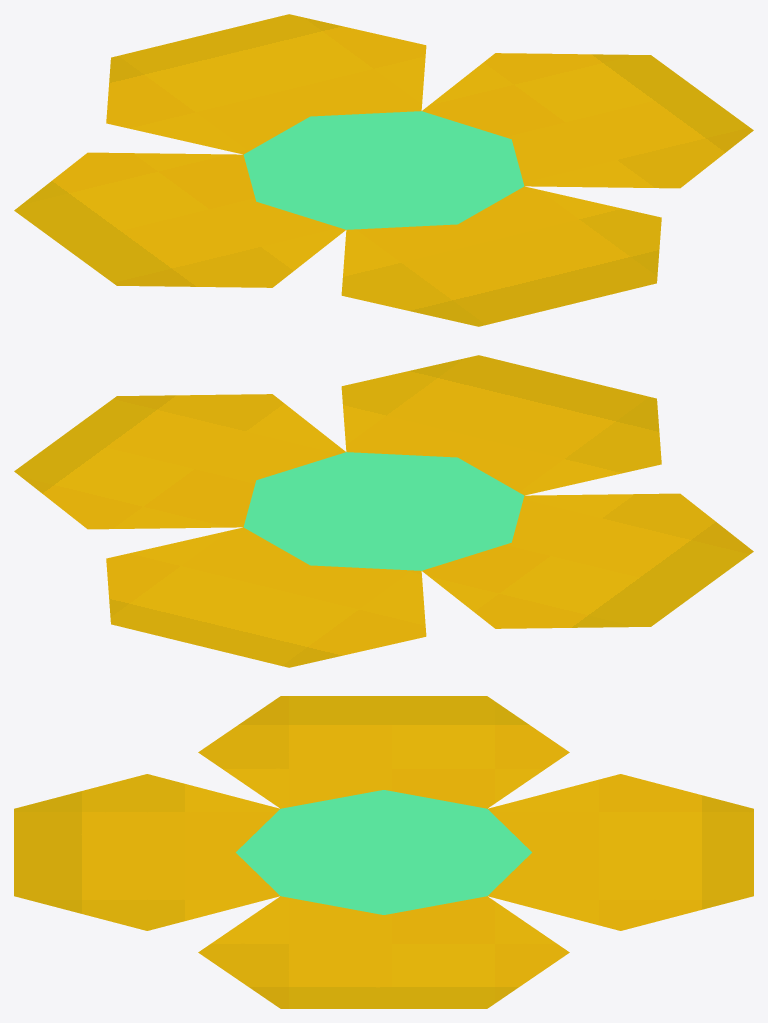
Rendered from GroundFlower.fbx.
3 views of the same model, one above another, from view 1: azimuth 30°, elevation 25°; view 2: azimuth 150°, elevation 25°; view 3: azimuth 270°, elevation 25° (orthographic).
Parts seen in each view (by area): view 1: GroundFlower; view 2: GroundFlower; view 3: GroundFlower.
Part boxes in pixels (<box>): GroundFlower: <box>14,14,753,326</box>; GroundFlower: <box>14,355,753,667</box>; GroundFlower: <box>14,696,753,1008</box>.
Bounding box in the file's own units: 0.3743 × 7.85e-16 × 0.3743.
